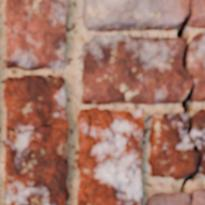brick: (4, 75, 68, 204), (79, 108, 145, 204), (6, 0, 67, 70)
broken_brick: (82, 34, 192, 105), (82, 0, 188, 33), (148, 112, 198, 181), (187, 0, 204, 103), (145, 192, 188, 204), (195, 109, 204, 154), (190, 188, 204, 204), (198, 172, 204, 179)
crack: (177, 0, 204, 204), (6, 121, 59, 149), (85, 110, 92, 133)
